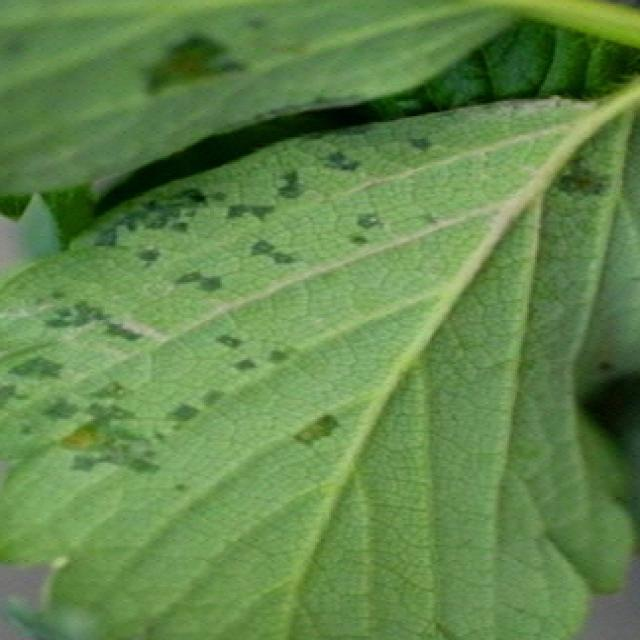Angular Leafspot: (0, 70, 640, 640)
